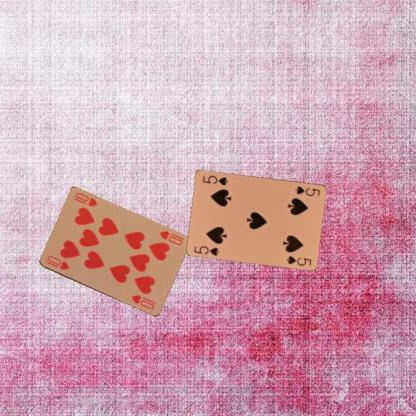10h: (156, 228, 184, 247), (43, 253, 70, 271)
5s: (192, 243, 221, 257), (293, 184, 321, 197)
